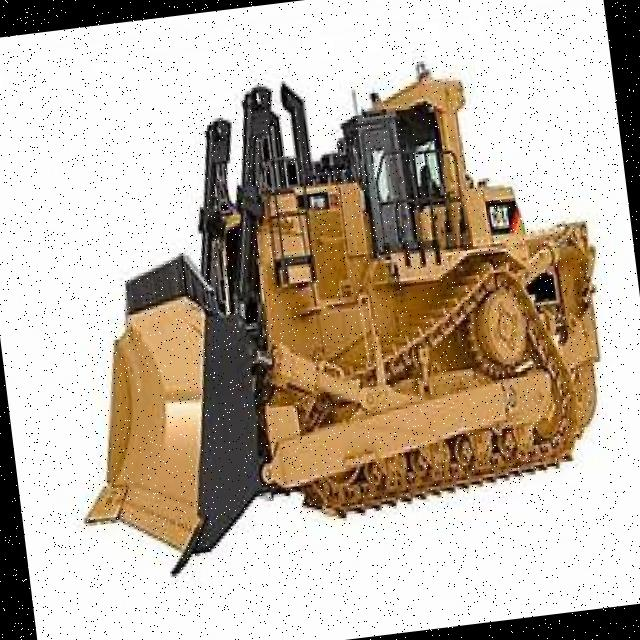Bulldozer: (27, 26, 627, 586)
